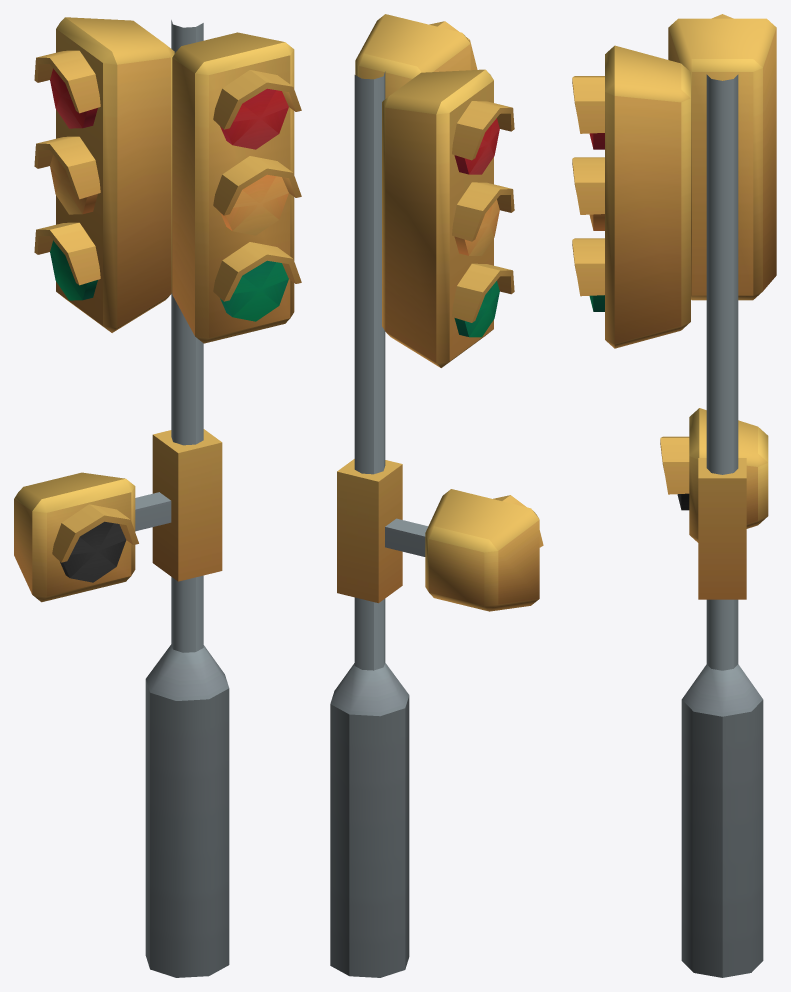
The model's file is traffic_light_free_model.glb.
The picture shows the model from 3 angles, left to right: view 1: azimuth 30°, elevation 25°; view 2: azimuth 150°, elevation 25°; view 3: azimuth 270°, elevation 25°; orthographic projection. The views are drawn at different scales.
Visible parts, largest first — view 1: trafficlight_A; view 2: trafficlight_A; view 3: trafficlight_A.
Boxes of the visible parts, bbox=[...] form: trafficlight_A: bbox=[14, 17, 301, 977]; trafficlight_A: bbox=[330, 14, 543, 977]; trafficlight_A: bbox=[572, 14, 776, 977].
Size of the model in its own units: 0.1744 by 0.7295 by 0.1506.
1 material, 1 textured.
